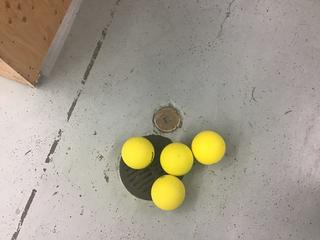power_cell: (156, 170, 185, 209), (161, 139, 190, 177), (194, 129, 225, 164), (122, 134, 151, 166)
